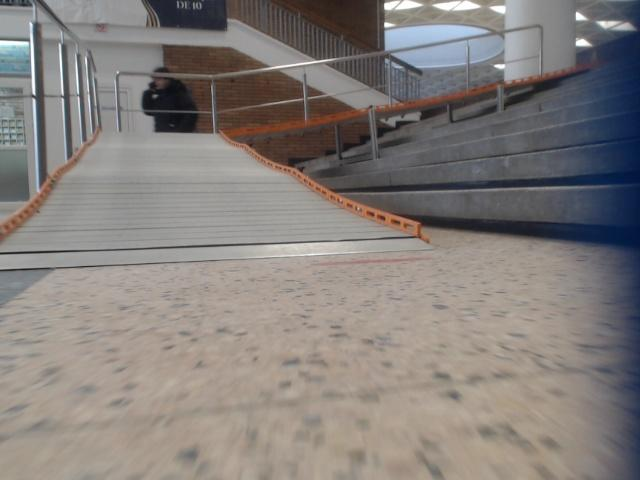rampUp: (0, 131, 430, 269)
ramps-railing: (116, 24, 543, 132), (27, 0, 101, 197)
